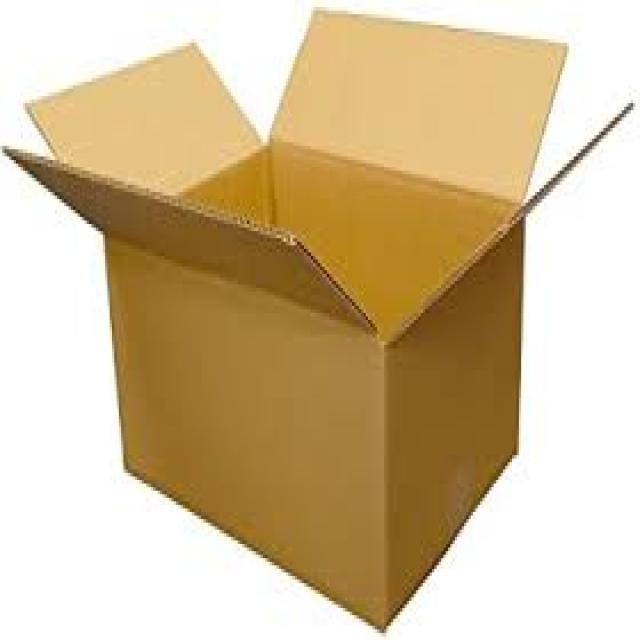cardboard: (0, 4, 631, 637)
